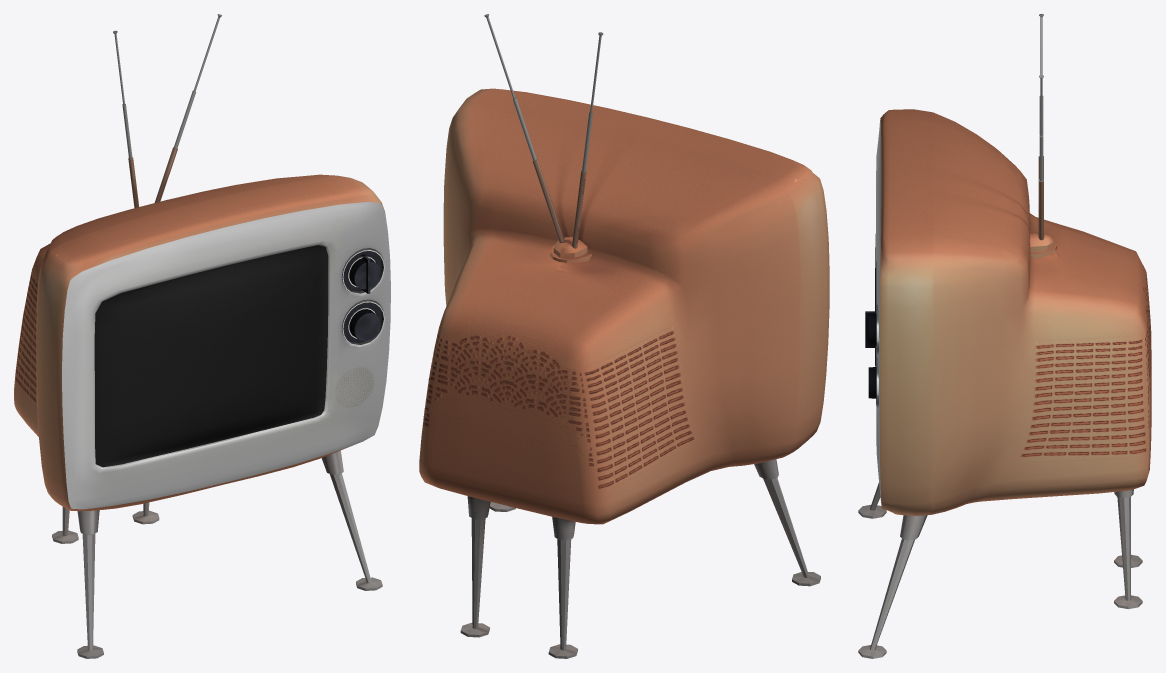
3 views of the same model, side by side, from view 1: azimuth 30°, elevation 25°; view 2: azimuth 150°, elevation 25°; view 3: azimuth 270°, elevation 25° (orthographic). The views are drawn at different scales.
Visible parts, largest first — view 1: screen, Object003, Box001, Cylinder007, Object002, Cylinder008, dial_01; view 2: Box001, Cylinder007, Cylinder008; view 3: Box001, Cylinder007, Object003, Cylinder008, Object002.
Part boxes in pixels (bbox=[...]): screen: bbox=[94, 245, 328, 467]; Object003: bbox=[62, 201, 390, 509]; Box001: bbox=[14, 174, 386, 511]; Cylinder007: bbox=[52, 450, 382, 658]; Object002: bbox=[343, 251, 381, 343]; Cylinder008: bbox=[113, 14, 221, 208]; dial_01: bbox=[342, 249, 384, 345]; Box001: bbox=[419, 88, 829, 524]; Cylinder007: bbox=[460, 459, 820, 658]; Cylinder008: bbox=[484, 14, 603, 248]; Box001: bbox=[880, 109, 1151, 515]; Cylinder007: bbox=[858, 483, 1142, 658]; Object003: bbox=[876, 119, 881, 505]; Cylinder008: bbox=[1038, 14, 1043, 240]; Object002: bbox=[865, 311, 876, 398].
Bounding box in the file's own units: 43.07 × 31.84 × 66.13.
Materials: 7 (7 with a texture image).
